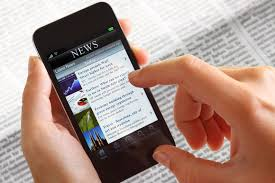mobil: (30, 0, 176, 182)
